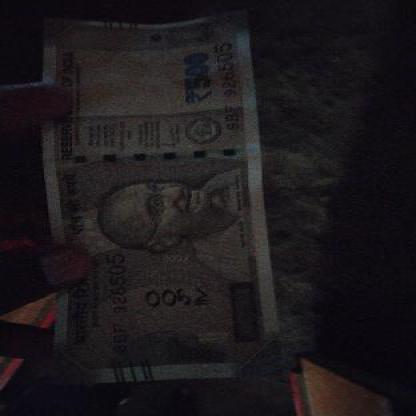New500Front: (43, 22, 276, 381)
